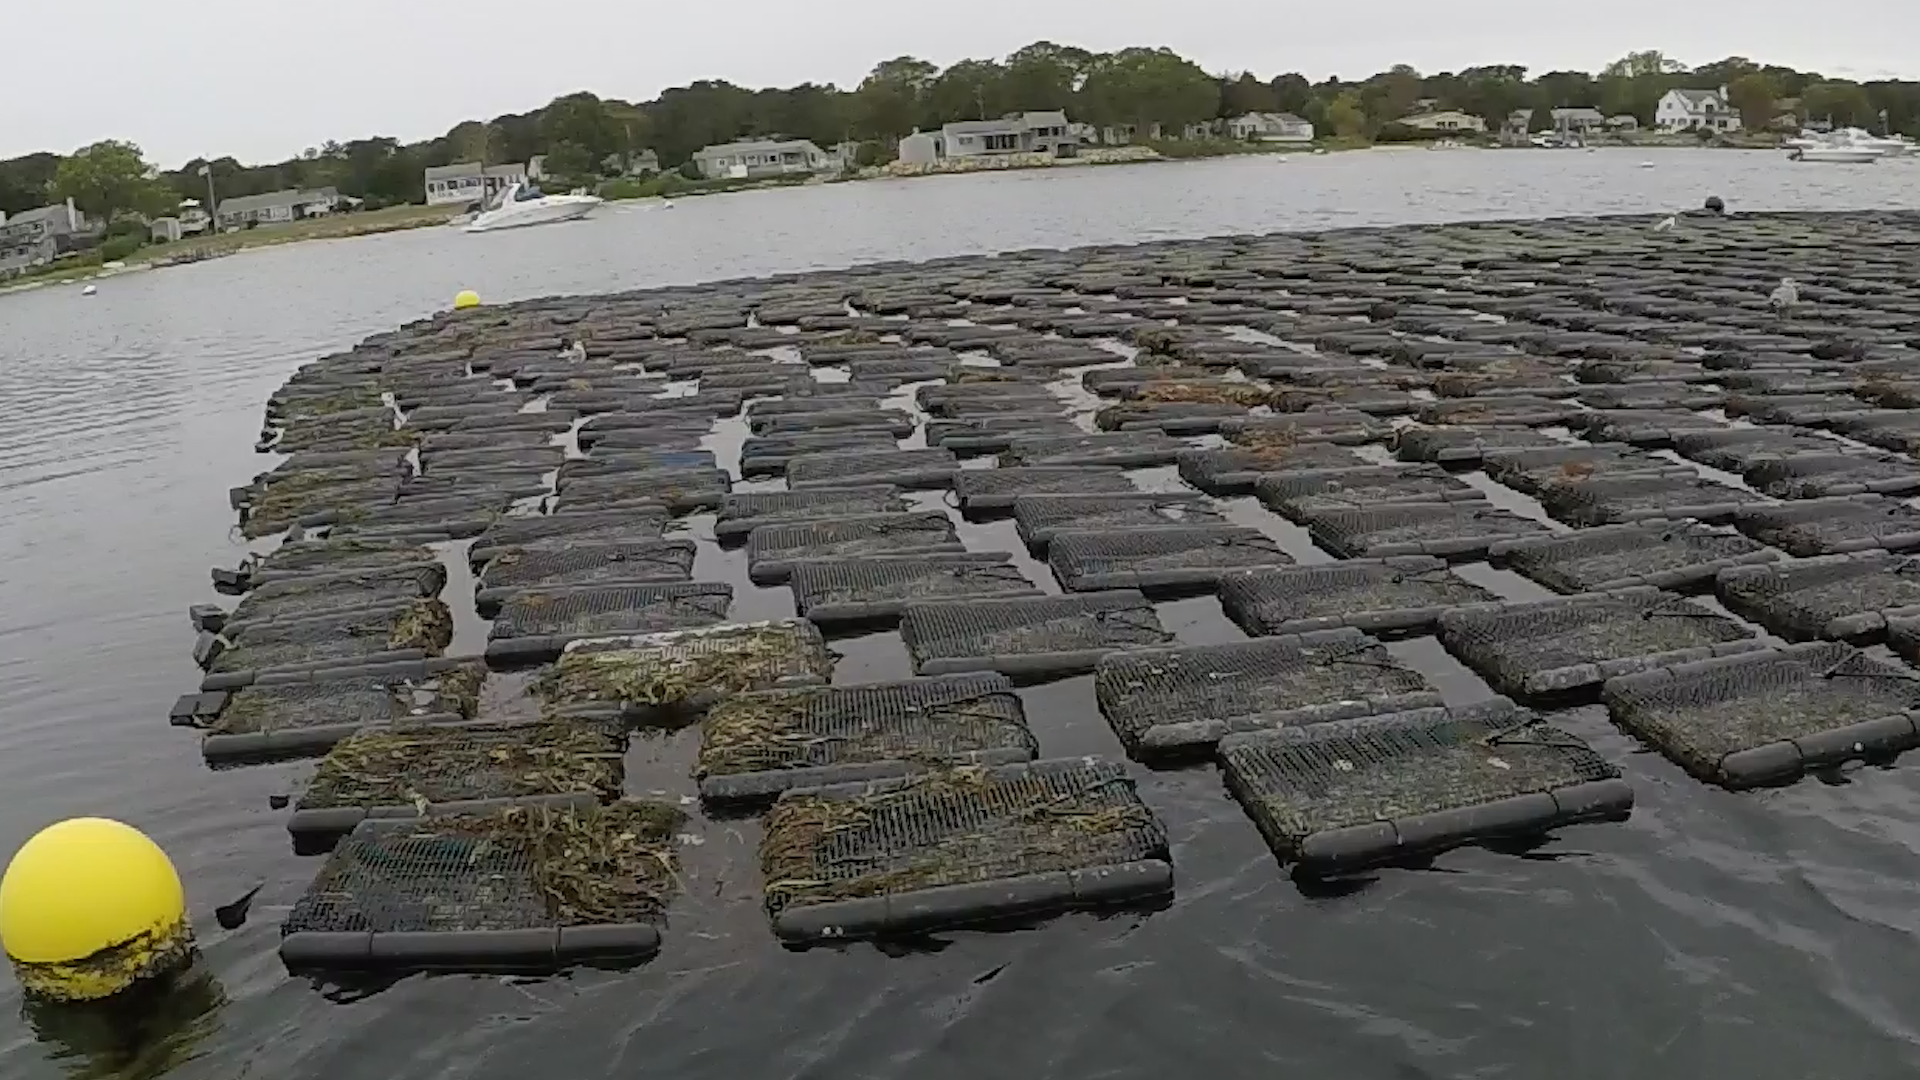bag: (752, 750, 1172, 945), (272, 791, 683, 978), (1207, 705, 1633, 873)
